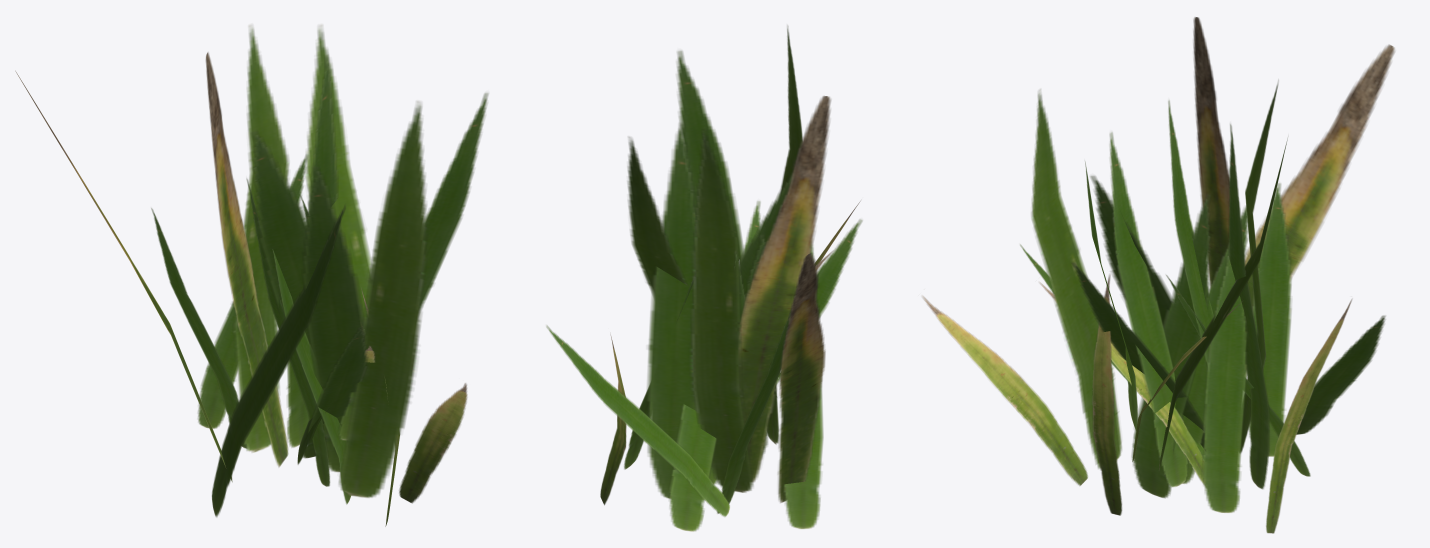
File: grass4.glb
3 renders of one model, left to right at view 1: azimuth 30°, elevation 25°; view 2: azimuth 150°, elevation 25°; view 3: azimuth 270°, elevation 25°, orthographic. The views are drawn at different scales.
Parts seen in each view (by area): view 1: grass_varien_4; view 2: grass_varien_4; view 3: grass_varien_4.
Part boxes in pixels (x1=…): grass_varien_4: x1=15, y1=25, x2=488, y2=526; grass_varien_4: x1=546, y1=25, x2=862, y2=531; grass_varien_4: x1=922, y1=17, x2=1394, y2=533.
Size of the model in its own units: 24.84 by 32.92 by 33.93.
1 material, 1 textured.
